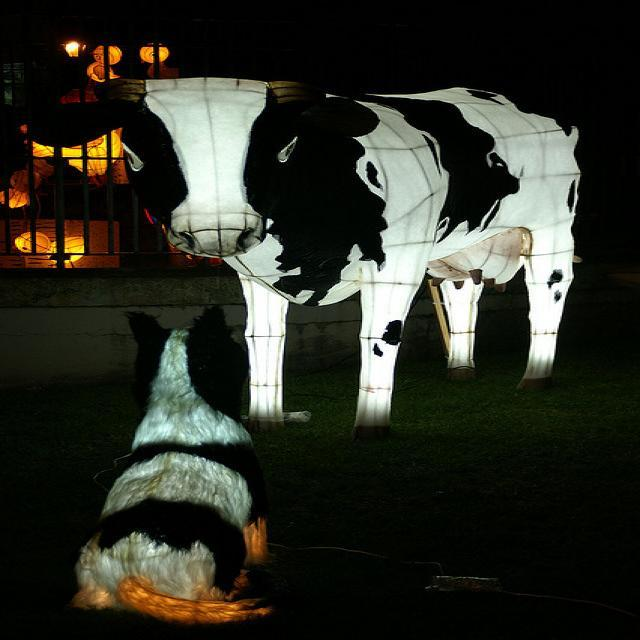cow: (21, 77, 584, 438)
